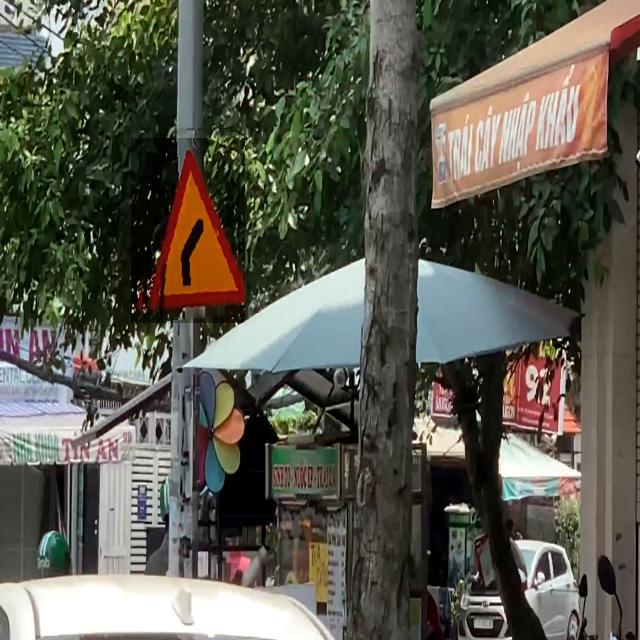W-201b: (131, 138, 245, 323)
